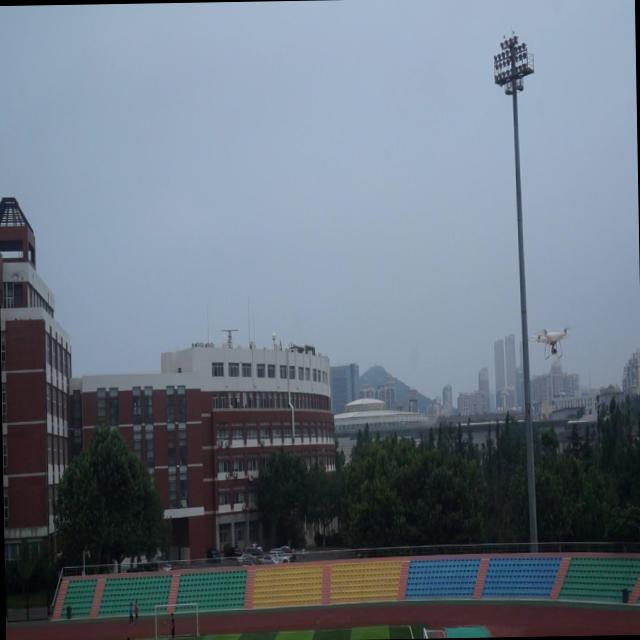drone: (524, 323, 572, 364)
